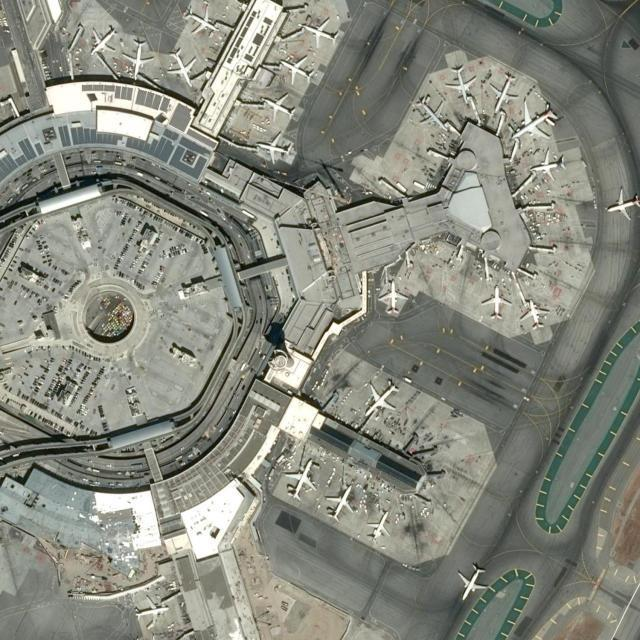Aircraft: (511, 98, 559, 138), (450, 562, 490, 604), (363, 380, 400, 420), (280, 453, 312, 499), (411, 95, 447, 133), (165, 46, 197, 88), (444, 60, 475, 102), (325, 478, 355, 520), (275, 53, 314, 83), (123, 38, 153, 76), (529, 150, 569, 178), (520, 293, 550, 330), (300, 16, 338, 45), (87, 22, 117, 58), (261, 93, 299, 121), (256, 131, 290, 162), (607, 188, 638, 220), (185, 5, 217, 35), (373, 281, 403, 312), (483, 285, 507, 321), (370, 511, 392, 543)
